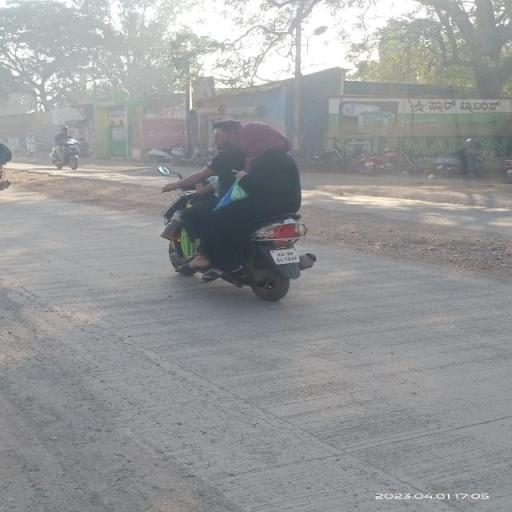bike: (154, 114, 324, 304)
numberplate: (270, 244, 306, 266)
withouthelmet: (242, 123, 272, 153), (213, 121, 239, 150)
